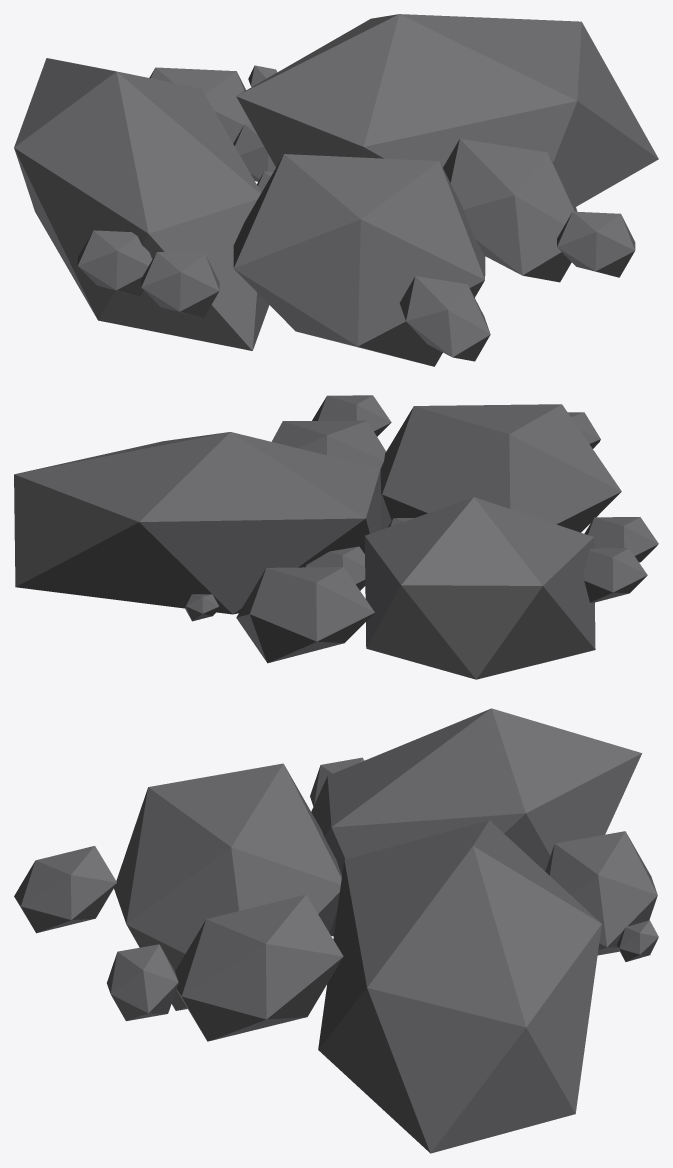
The model's file is Piedras nuevas.fbx.
3 renders of one model, top to bottom at view 1: azimuth 30°, elevation 25°; view 2: azimuth 150°, elevation 25°; view 3: azimuth 270°, elevation 25°, orthographic. The views are drawn at different scales.
Parts seen in each view (by area): view 1: polySurface300; view 2: polySurface300; view 3: polySurface300.
Part boxes in pixels (bbox=[...]): polySurface300: bbox=[14, 14, 658, 366]; polySurface300: bbox=[14, 395, 658, 679]; polySurface300: bbox=[14, 708, 658, 1153].
Size of the model in its own units: 1.26 by 0.423 by 1.11.
